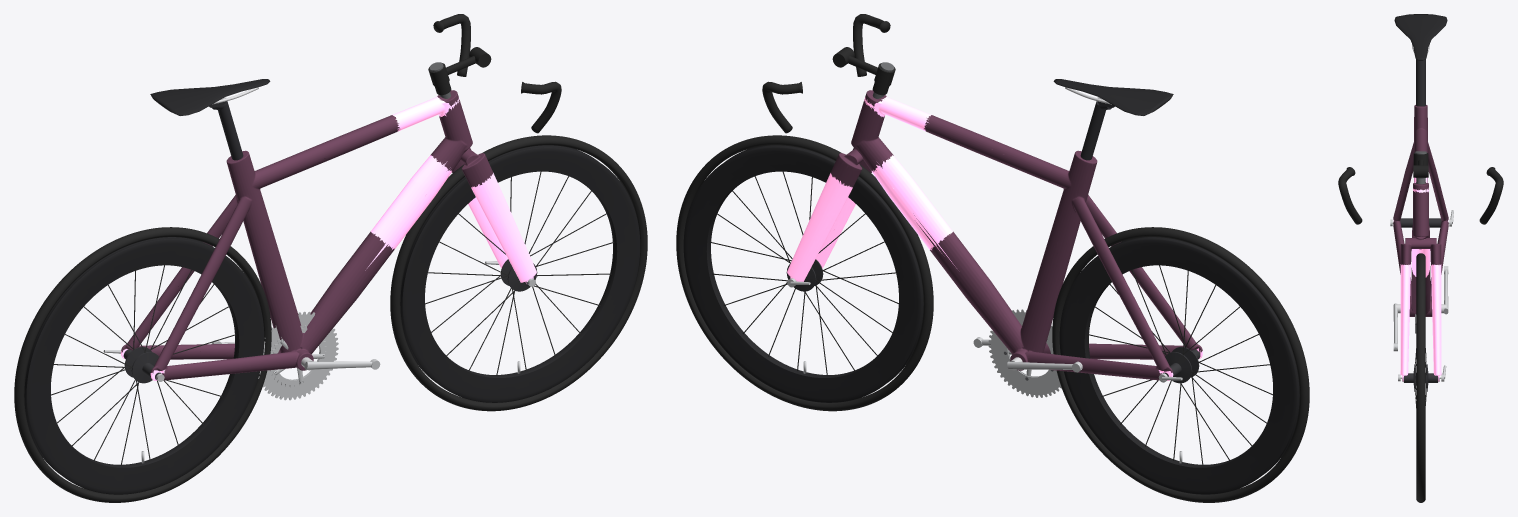
File: bike_web.glb
The picture shows the model from 3 angles, left to right: view 1: azimuth 30°, elevation 25°; view 2: azimuth 150°, elevation 25°; view 3: azimuth 270°, elevation 25°; orthographic projection. The views are drawn at different scales.
Parts seen in each view (by area): view 1: frame, rim_rear, rim_front, tyre_rear, tyre_front, fork, spokes_front, chainrings, spokes_rear, saddle, dropbar, stem (+3 smaller); view 2: frame, rim_rear, rim_front, tyre_rear, tyre_front, fork, spokes_front, spokes_rear, saddle, chainrings, dropbar, stem (+3 smaller); view 3: frame, fork, tyre_front, saddle, dropbar, crank_arms, stem, seatpost, hub_front, hub_rear.
Boxes of the visible parts, x1,y1,x2,y2 form: frame: (121, 90, 472, 380); rim_rear: (24, 237, 264, 494); rim_front: (400, 145, 640, 402); tyre_rear: (14, 227, 271, 502); tyre_front: (390, 135, 647, 411); fork: (452, 147, 536, 283); spokes_front: (425, 171, 614, 375); chainrings: (258, 311, 338, 400); spokes_rear: (51, 265, 236, 465); saddle: (150, 79, 270, 115); dropbar: (433, 14, 561, 133); stem: (428, 47, 491, 98); frame: (851, 90, 1202, 380); rim_rear: (1059, 237, 1299, 494); rim_front: (683, 145, 923, 402); tyre_rear: (1052, 227, 1309, 502); tyre_front: (676, 135, 933, 411); fork: (787, 147, 871, 281); spokes_front: (710, 171, 898, 375); spokes_rear: (1087, 265, 1272, 465); saddle: (1053, 79, 1173, 115); chainrings: (988, 309, 1061, 397); dropbar: (762, 14, 890, 133); stem: (832, 47, 895, 98); frame: (1393, 105, 1448, 316); fork: (1400, 238, 1441, 381); tyre_front: (1416, 253, 1425, 502); saddle: (1394, 14, 1447, 60); dropbar: (1338, 167, 1503, 224); crank_arms: (1393, 266, 1448, 351); stem: (1413, 151, 1428, 184); seatpost: (1416, 59, 1425, 106); hub_front: (1402, 364, 1439, 391); hub_rear: (1400, 218, 1441, 227).
Size of the model in its own units: 1.66 by 0.9827 by 0.4466.
